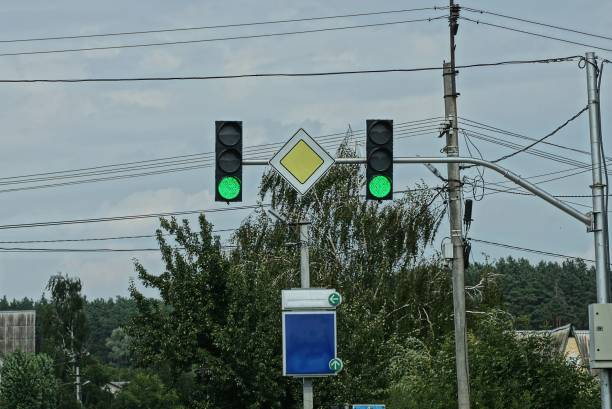trafficlight: (356, 113, 402, 205), (210, 117, 249, 206)
